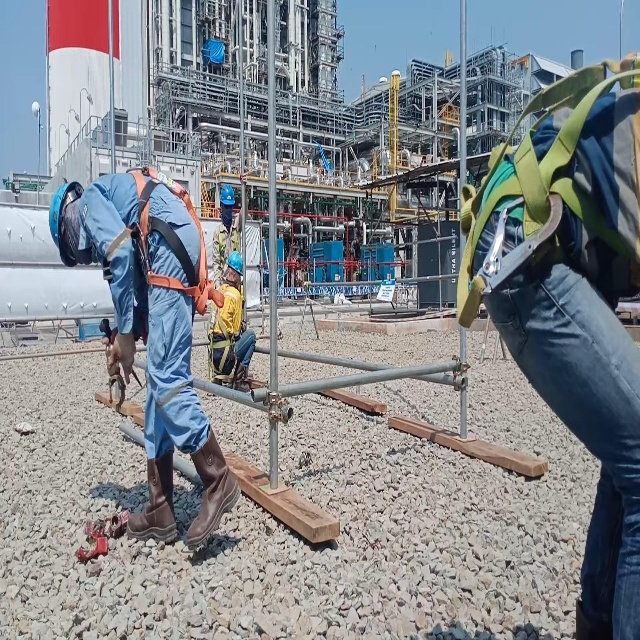Arnes_seguridad: (454, 57, 640, 328), (123, 159, 225, 320), (204, 306, 237, 385)
